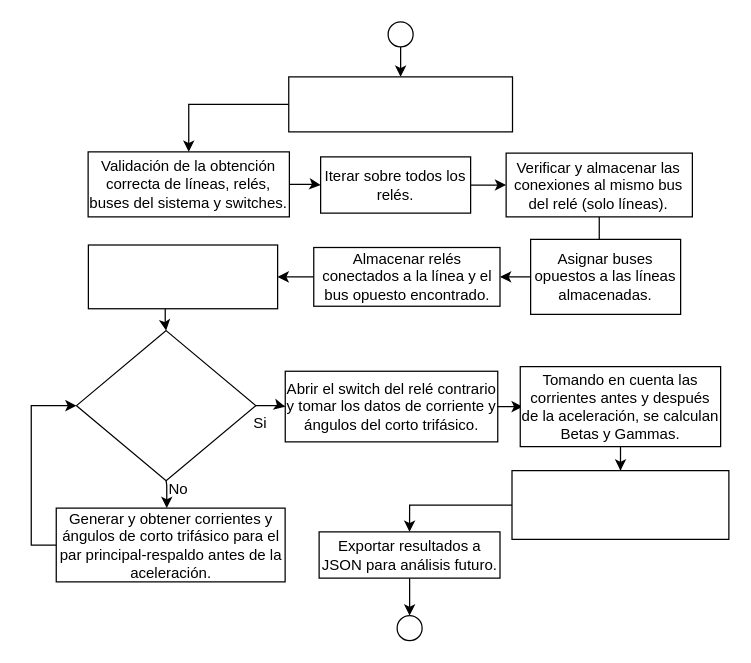
The diagram is 751 pixels wide and 663 high, and some of its shapes have lost their labels. The box of each missing label's shape, as (x1, y1, x2, y2) in pixels:
Creación de la matriz índice donde se almacena toda la información mencionada.: (511, 469, 729, 539)
Generar el par principal-respaldo con el relé iterado y el relé encontrado.: (87, 244, 278, 309)
Obtención de todos los objetos (Elementos) por medio de la API de Python: (288, 76, 512, 132)
¿Se revisaron las corrientes antes de la aceleración del relé?: (75, 329, 256, 481)
